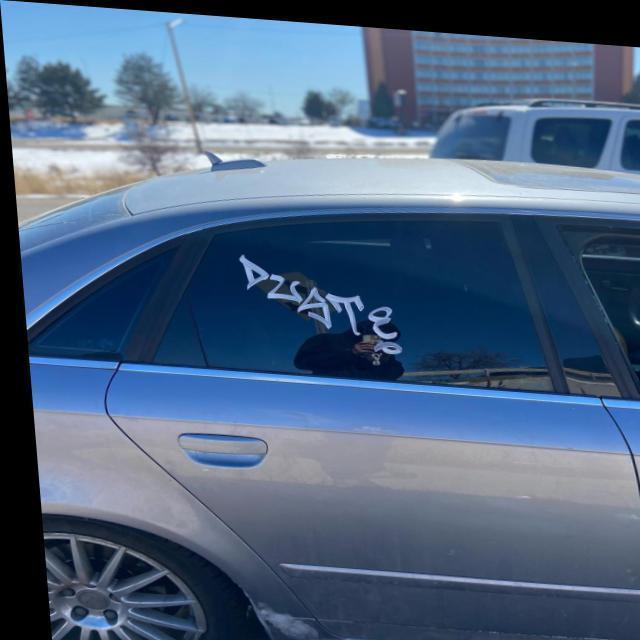nonspitting: (237, 254, 404, 357)
